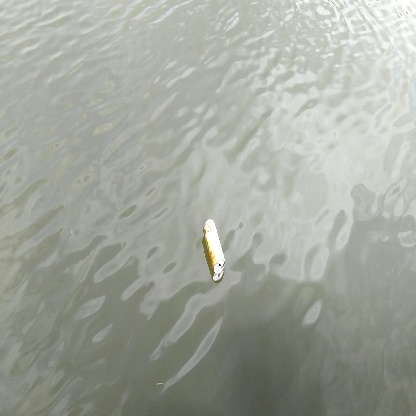bottle: (201, 217, 229, 285)
